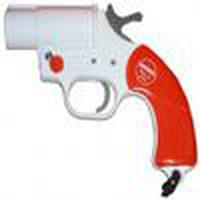gun: (2, 4, 200, 184)
